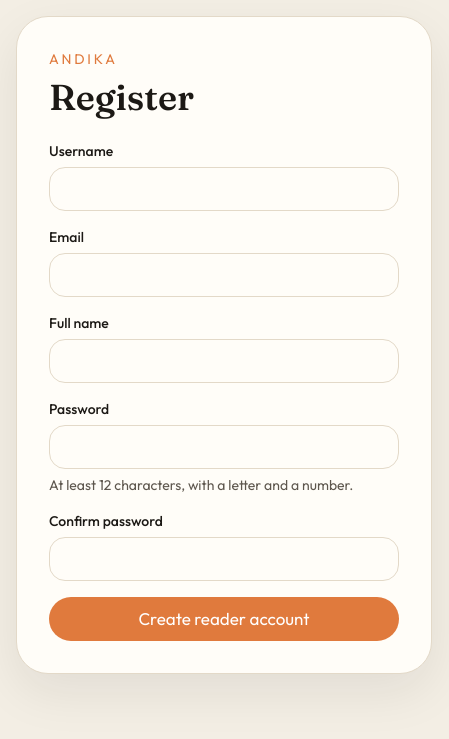
Test: authentication screens › rejects a registration that does not meet the password rules
Type "ada" into the field labelled "Username" at coordinates (224, 189), box [49,167,399,211]
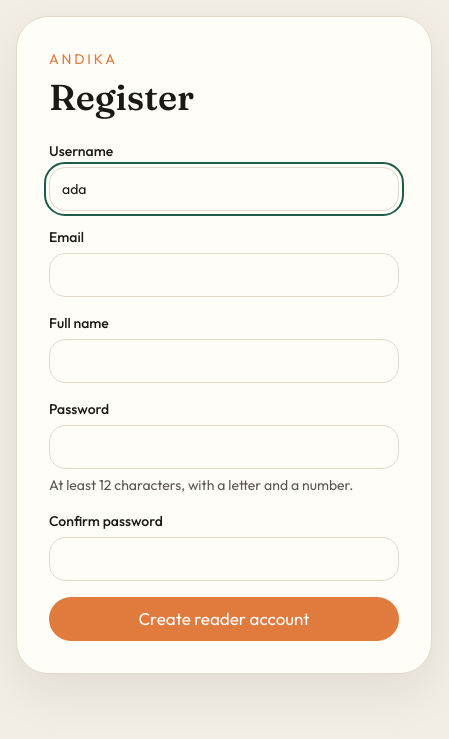
Type "ada@example.com" into the field labelled "Email" at coordinates (224, 275), box [49,253,399,297]
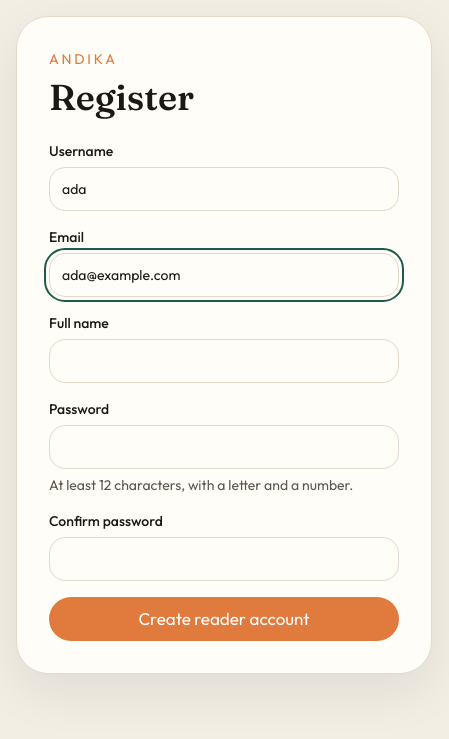
Type "short" into the password field labelled "Password" at coordinates (224, 447), box [49,425,399,469]
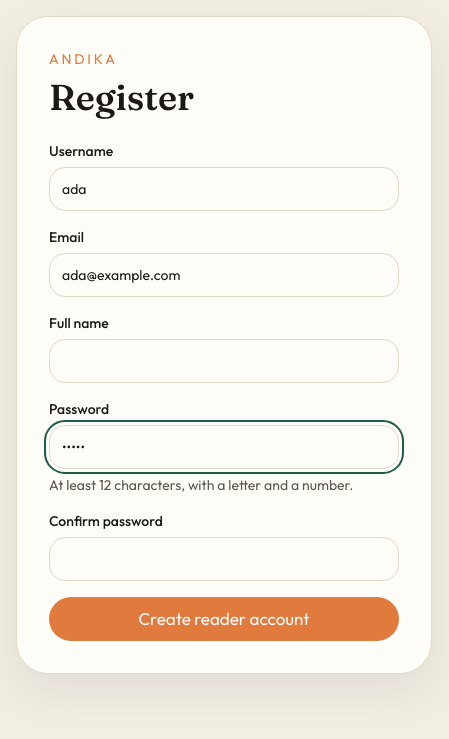
Type "short" into the password field labelled "Confirm password" at coordinates (224, 559), box [49,537,399,581]
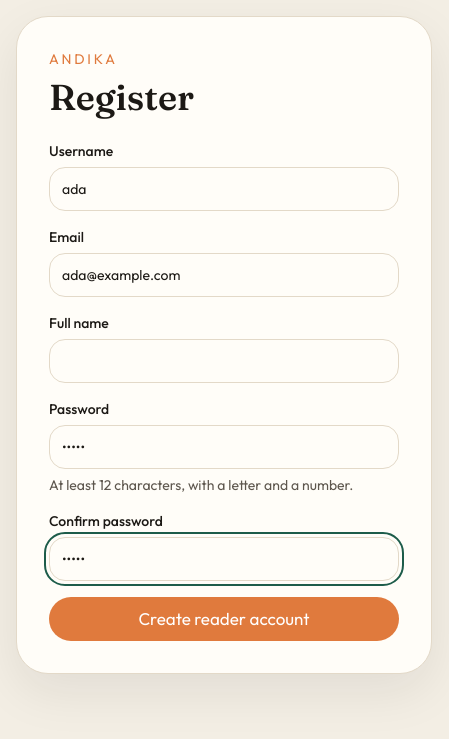
Click the button "Create reader account" at coordinates (224, 619), box [49,597,399,641]
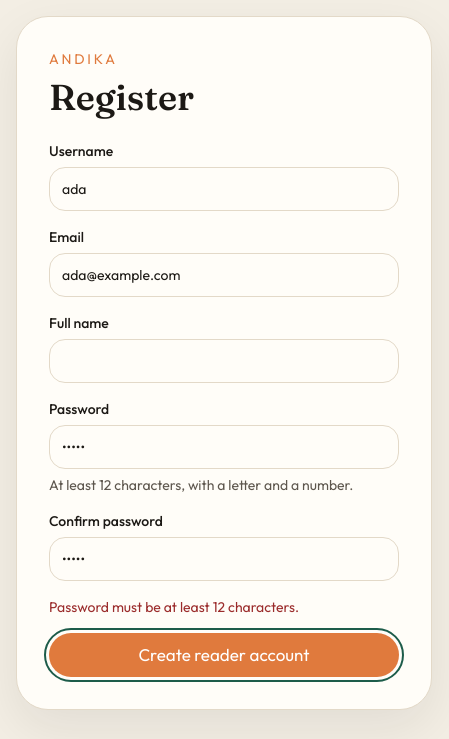
Expected: the message shows "12", [49,598,299,616]
